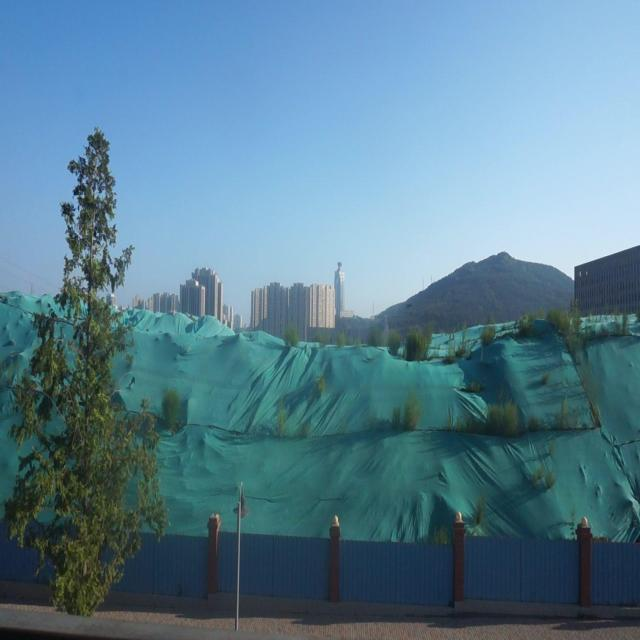UAV: (405, 303, 413, 308)
